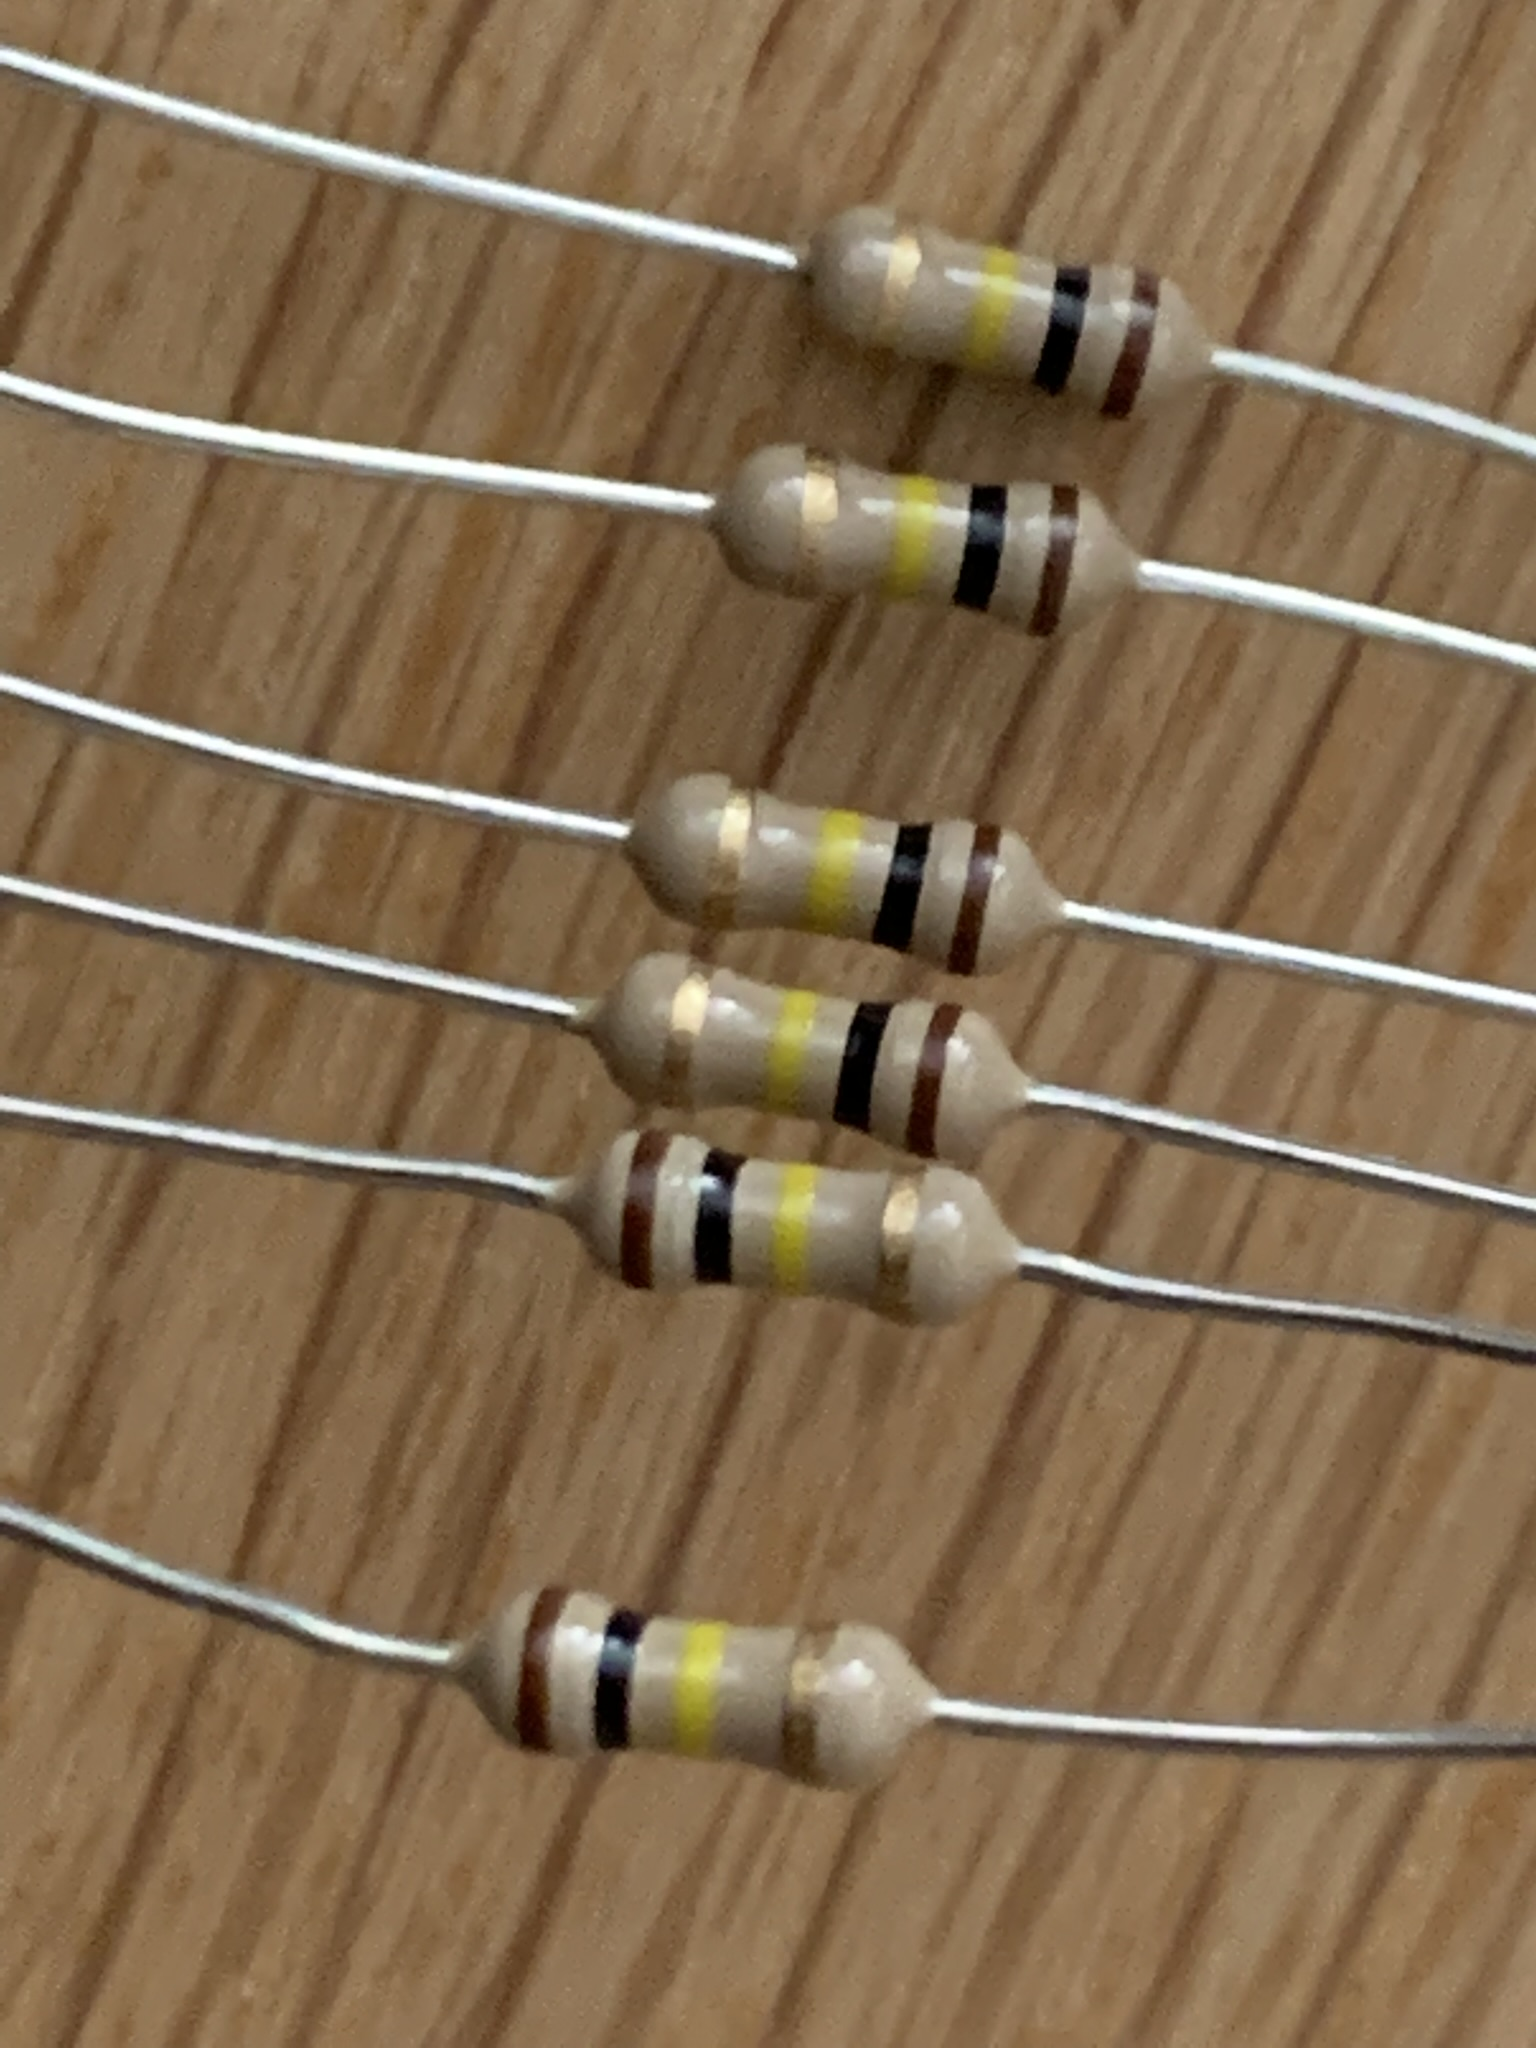resistor_thd: (599, 951, 1018, 1171), (476, 1582, 912, 1792), (574, 1127, 1016, 1329), (802, 210, 1208, 427), (636, 774, 1042, 977), (720, 443, 1123, 642)
